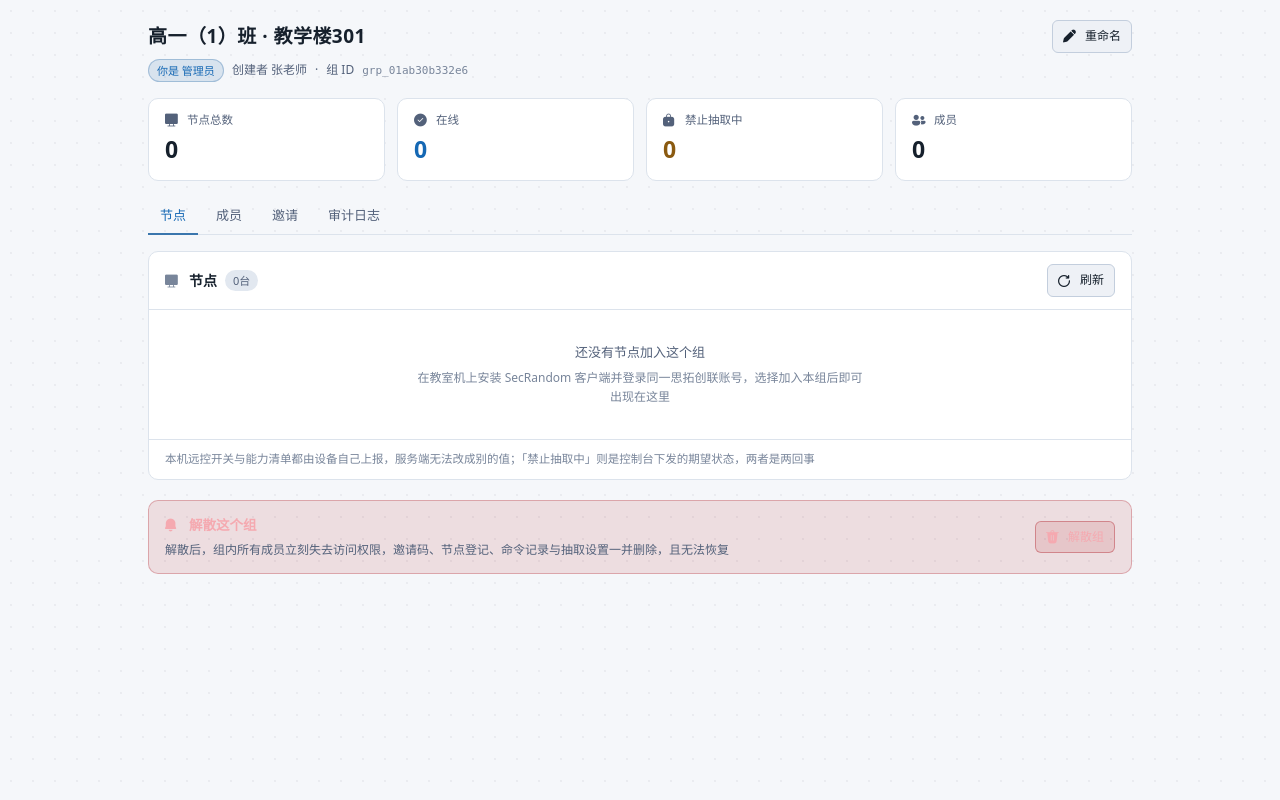
Scenario: GroupDetailView 重命名组 › admin 打开对话框，名字预填当前组名
Click the button with test id "group-rename-open" at {"x": 1092, "y": 36}, box x1=1052 y1=20 x2=1132 y2=53
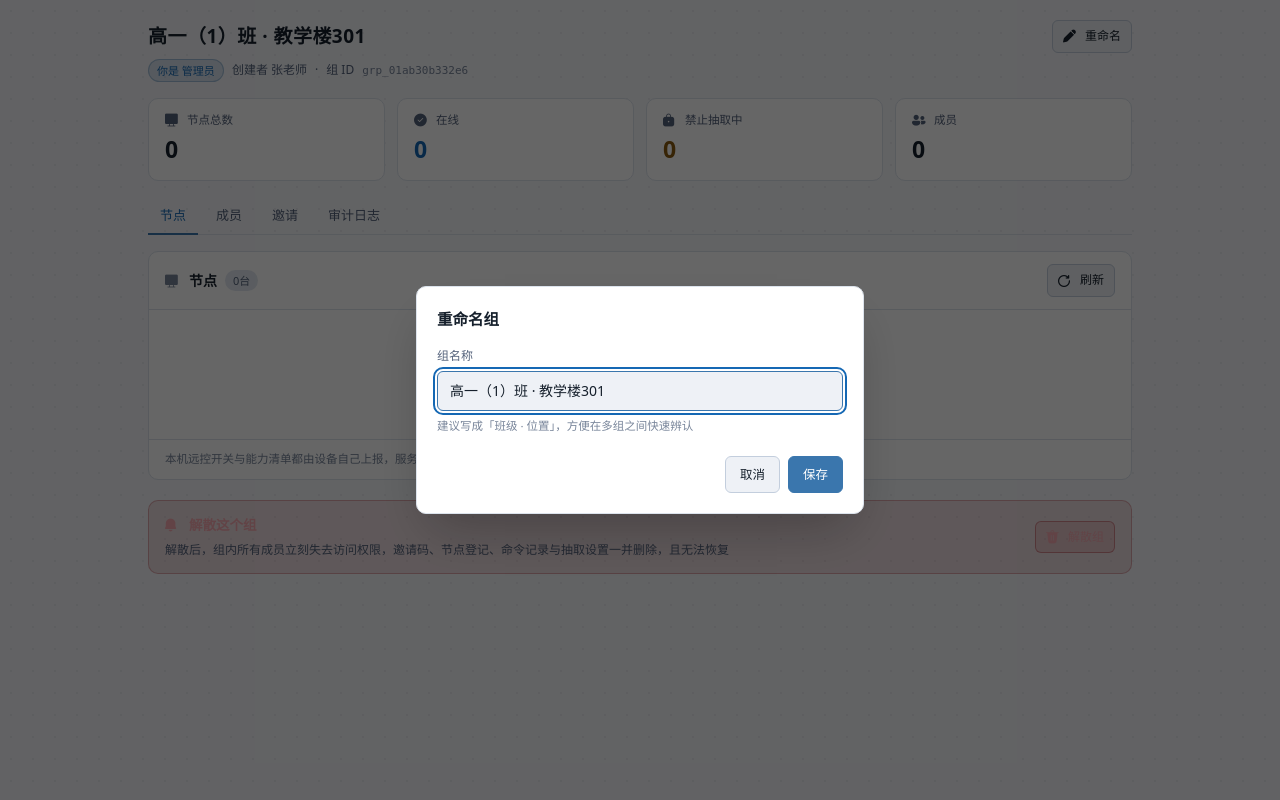
Now the field with test id "rename-name" holds "高一（1）班 · 教学楼301", box x1=437 y1=371 x2=843 y2=411
